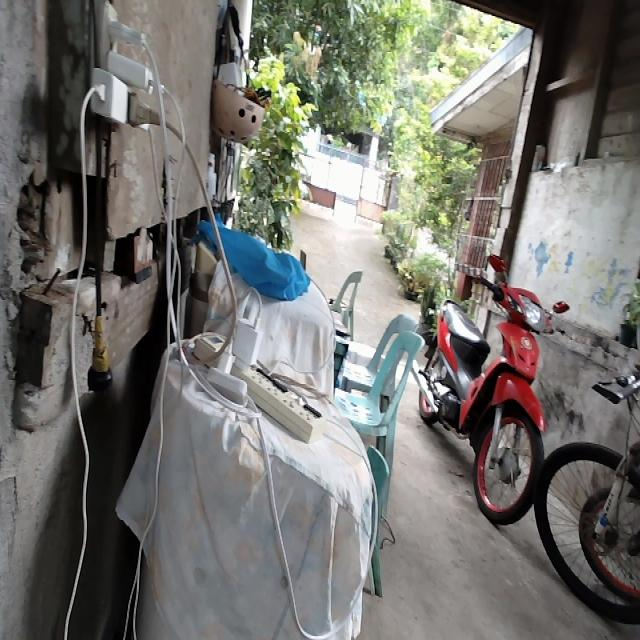-: (85, 2, 160, 134)
